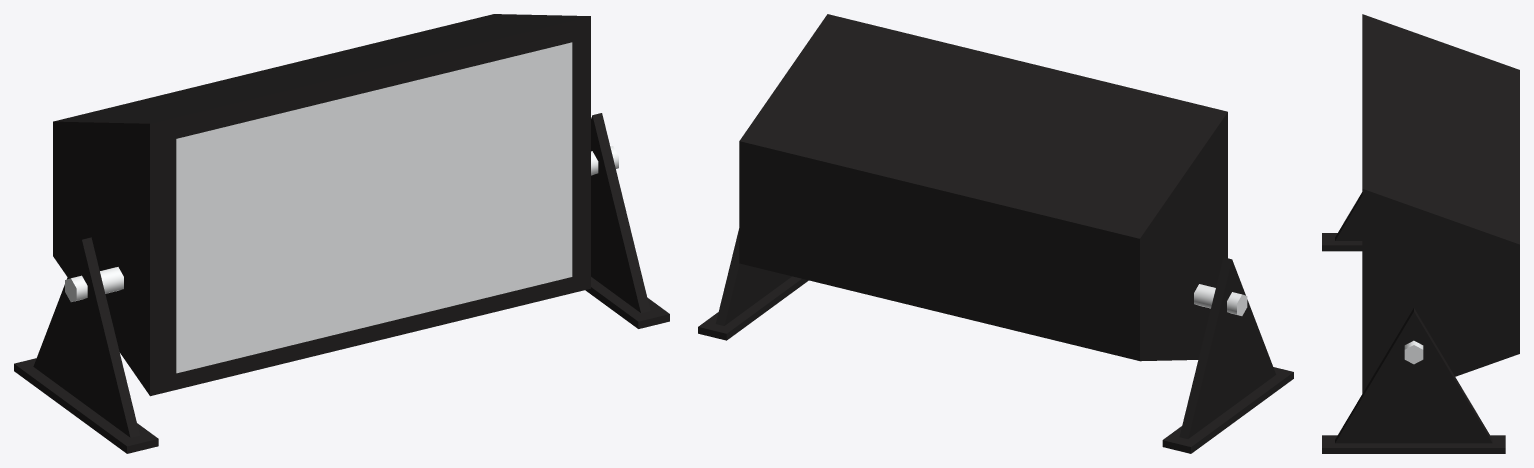
Rendered from M_dengxiang01.FBX.
3 views of the same model, side by side, from view 1: azimuth 30°, elevation 25°; view 2: azimuth 150°, elevation 25°; view 3: azimuth 270°, elevation 25° (orthographic). The views are drawn at different scales.
Visible parts, largest first — view 1: Object001, M_dengxiang01_01; view 2: M_dengxiang01_01; view 3: M_dengxiang01_01.
Boxes of the visible parts, <box> form: Object001: <box>176,42,572,373</box>; M_dengxiang01_01: <box>14,14,669,453</box>; M_dengxiang01_01: <box>698,14,1293,453</box>; M_dengxiang01_01: <box>1322,14,1519,453</box>.
Size of the model in its own units: 1.44 by 0.7639 by 0.5613.
